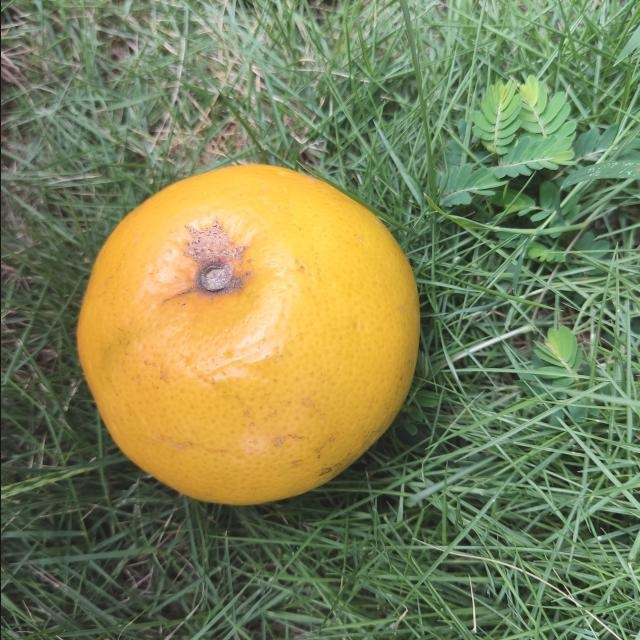agrume: (69, 159, 423, 513)
